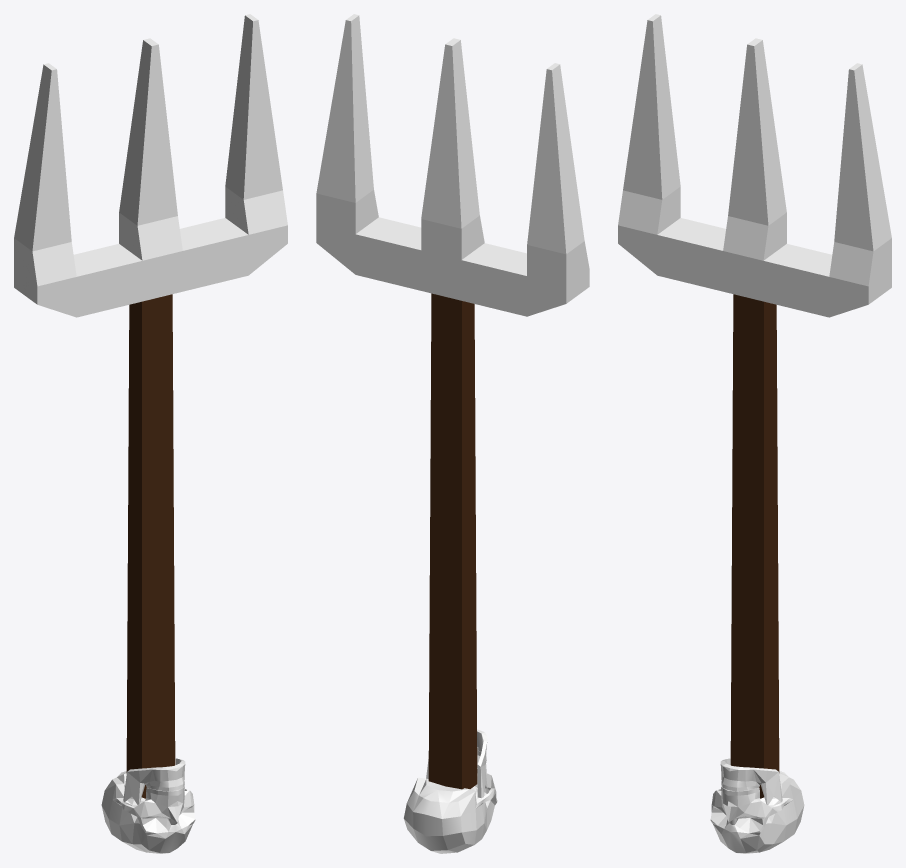
File: SteelPitchfork.fbx
3 views of the same model, side by side, from view 1: azimuth 30°, elevation 25°; view 2: azimuth 150°, elevation 25°; view 3: azimuth 330°, elevation 25° (orthographic).
Parts seen in each view (by area): view 1: Cube; view 2: Cube; view 3: Cube.
Boxes of the visible parts, <box> form: Cube: <box>14,14,287,853</box>; Cube: <box>316,14,589,853</box>; Cube: <box>618,14,891,853</box>.
Size of the model in its own units: 1.24 by 0.4689 by 3.82.
